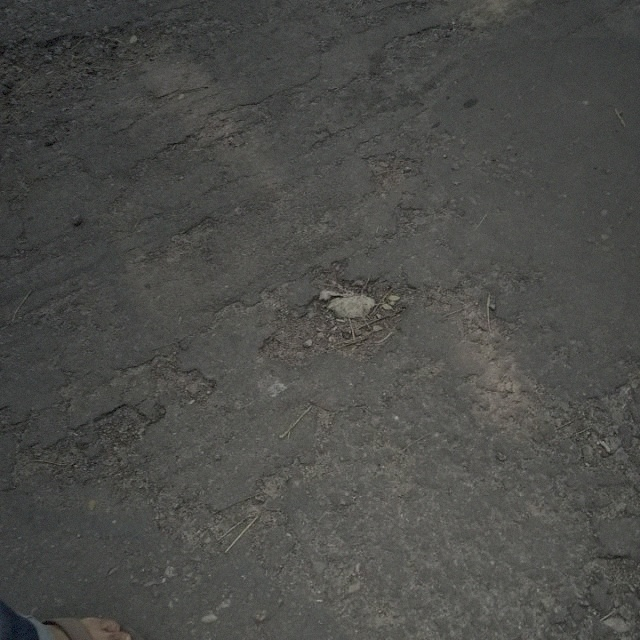pothole: (0, 23, 178, 125), (257, 271, 419, 372), (132, 350, 218, 398), (84, 401, 152, 446), (358, 150, 423, 197)
